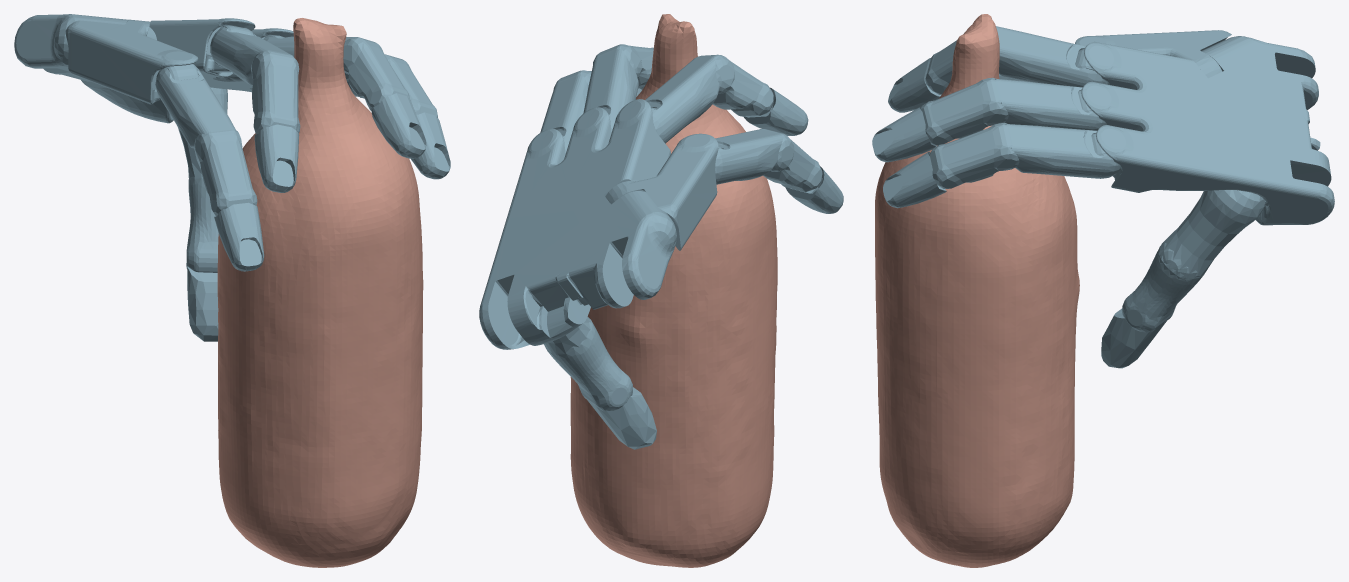
The model's file is 3_joint.glb.
3 views of the same model, side by side, from view 1: azimuth 30°, elevation 25°; view 2: azimuth 150°, elevation 25°; view 3: azimuth 270°, elevation 25° (orthographic). The views are drawn at different scales.
Visible parts, largest first — view 1: world; view 2: world; view 3: world.
Part boxes in pixels (<box>): world: <box>14,14,450,567</box>; world: <box>479,14,843,567</box>; world: <box>872,14,1334,567</box>.
Size of the model in its own units: 0.7706 by 1.63 by 1.28.
